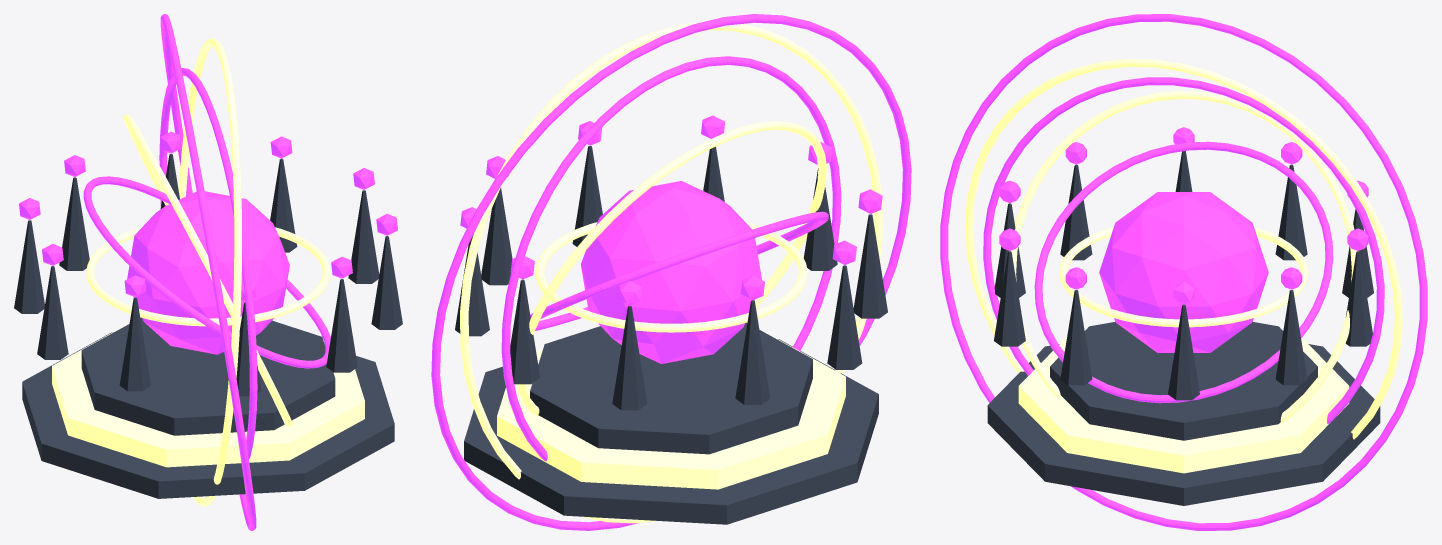
File: gpu-blender-v11.glb
The picture shows the model from 3 angles, left to right: view 1: azimuth 30°, elevation 25°; view 2: azimuth 150°, elevation 25°; view 3: azimuth 270°, elevation 25°; orthographic projection. The views are drawn at different scales.
Parts seen in each view (by area): view 1: Cylinder.002, Cylinder, SovereignCore_1nc0gn30.github.io, Cylinder.001, Torus.005, Torus.004, Torus.001, Torus.003, Torus, Torus.002, Cone.006, Cone.008 (+7 smaller); view 2: Cylinder.002, SovereignCore_1nc0gn30.github.io, Cylinder, Cylinder.001, Torus.005, Torus.003, Torus.004, Torus.002, Torus, Torus.001, Cone.003, Cone.004 (+8 smaller); view 3: SovereignCore_1nc0gn30.github.io, Cylinder.002, Cylinder, Cylinder.001, Torus.005, Torus.004, Torus.003, Torus.001, Torus.002, Torus, Cone, Cone.001 (+7 smaller).
Boxes of the visible parts, <box> form: Cylinder.002: <box>81,317,335,435</box>; Cylinder: <box>22,332,394,498</box>; SovereignCore_1nc0gn30.github.io: <box>127,191,289,354</box>; Cylinder.001: <box>52,324,364,467</box>; Torus.005: <box>160,14,256,530</box>; Torus.004: <box>178,38,241,506</box>; Torus.001: <box>83,176,330,368</box>; Torus.003: <box>159,68,257,458</box>; Torus: <box>86,227,330,326</box>; Torus.002: <box>123,114,292,425</box>; Cone.006: <box>119,297,150,391</box>; Cone.008: <box>326,279,357,372</box>; Cylinder.002: <box>530,322,812,454</box>; SovereignCore_1nc0gn30.github.io: <box>581,181,761,363</box>; Cylinder: <box>464,339,878,524</box>; Cylinder.001: <box>497,330,845,489</box>; Torus.005: <box>431,14,911,530</box>; Torus.003: <box>501,56,841,461</box>; Torus.004: <box>460,22,882,523</box>; Torus.002: <box>517,121,826,415</box>; Torus: <box>535,222,807,332</box>; Torus.001: <box>530,211,828,330</box>; Cone.003: <box>612,306,647,410</box>; Cone.004: <box>735,300,770,404</box>; SovereignCore_1nc0gn30.github.io: <box>1099,192,1268,352</box>; Cylinder.002: <box>1050,322,1317,440</box>; Cylinder: <box>987,344,1380,505</box>; Cylinder.001: <box>1018,336,1349,473</box>; Torus.005: <box>940,14,1427,530</box>; Torus.004: <box>965,59,1402,439</box>; Torus.003: <box>983,77,1384,423</box>; Torus.001: <box>1034,141,1333,403</box>; Torus.002: <box>1010,90,1357,423</box>; Torus: <box>1059,227,1308,327</box>; Cone: <box>1168,304,1199,400</box>; Cone.001: <box>1275,290,1307,385</box>.
Size of the model in its own units: 4.41 by 5.93 by 5.46.
